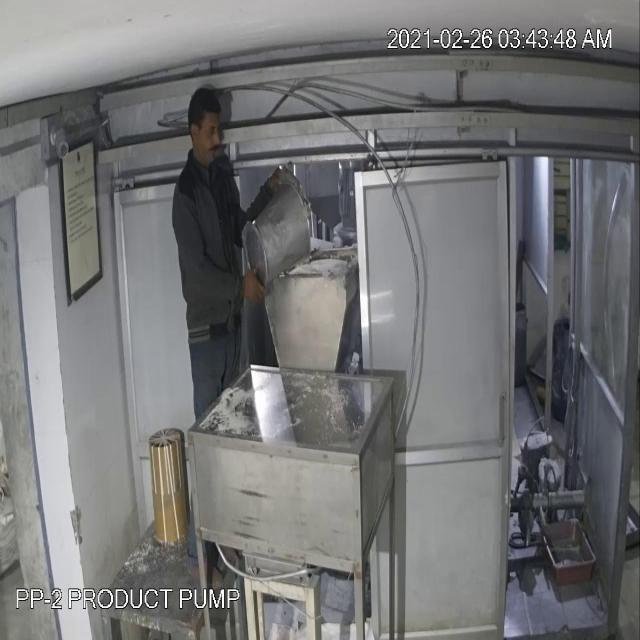no-helmet: (185, 86, 229, 175)
